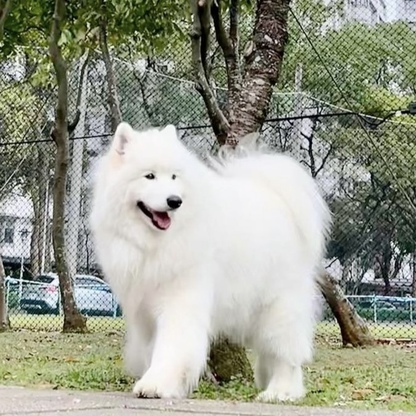samoyed: (83, 115, 340, 402)
